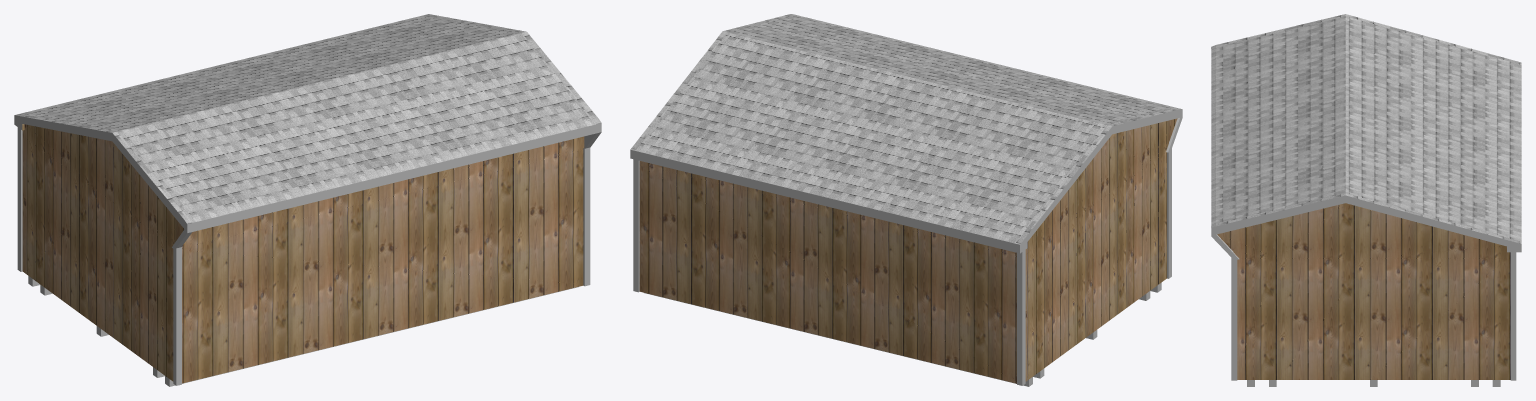
File: Quaker Sheds_12x18.obj
3 renders of one model, left to right at view 1: azimuth 30°, elevation 25°; view 2: azimuth 150°, elevation 25°; view 3: azimuth 270°, elevation 25°, orthographic. The views are drawn at different scales.
Visible parts, largest first — view 1: Shed, Roof, Sides, Trim, Floor; view 2: Shed, Roof, Sides, Trim, Floor; view 3: Roof, Shed, Sides, Trim, Floor.
Part boxes in pixels (left/top/right/bottom): Shed: left=22, top=124, right=584, bottom=383; Roof: left=14, top=14, right=601, bottom=223; Sides: left=14, top=115, right=601, bottom=249; Trim: left=17, top=127, right=590, bottom=385; Floor: left=28, top=276, right=578, bottom=386; Shed: left=639, top=118, right=1177, bottom=383; Roof: left=630, top=14, right=1181, bottom=244; Sides: left=630, top=109, right=1182, bottom=253; Trim: left=633, top=149, right=1171, bottom=385; Floor: left=644, top=282, right=1161, bottom=386; Roof: left=1211, top=14, right=1521, bottom=243; Shed: left=1217, top=203, right=1510, bottom=379; Sides: left=1211, top=195, right=1521, bottom=259; Trim: left=1231, top=252, right=1516, bottom=380; Floor: left=1247, top=380, right=1500, bottom=386.
Size of the model in its own units: 5.55 by 2.74 by 4.01.
